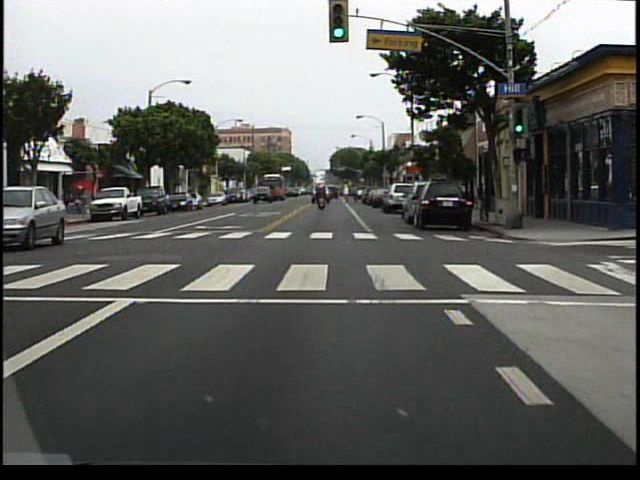person: (315, 186, 328, 213)
